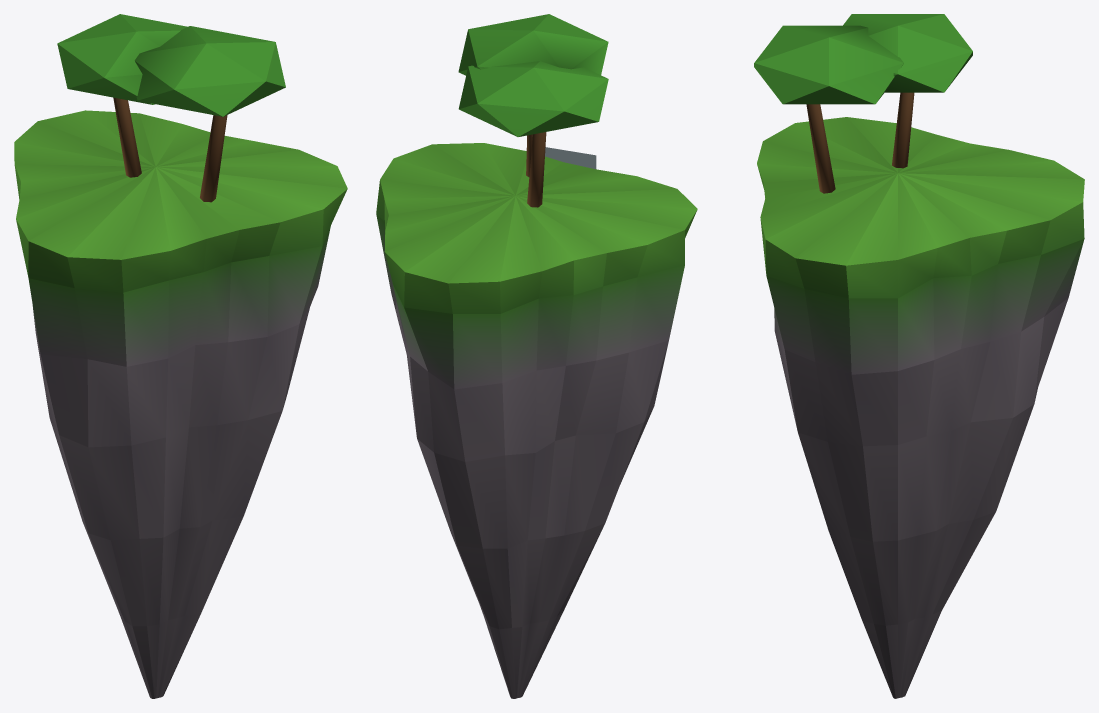
File: insulita_a.glb
3 views of the same model, side by side, from view 1: azimuth 30°, elevation 25°; view 2: azimuth 150°, elevation 25°; view 3: azimuth 270°, elevation 25° (orthographic). The views are drawn at different scales.
Parts seen in each view (by area): view 1: Corp; view 2: Corp; view 3: Corp.
Boxes of the visible parts, left/top/right/bottom form: Corp: left=14, top=14, right=347, bottom=698; Corp: left=376, top=14, right=697, bottom=698; Corp: left=754, top=14, right=1084, bottom=698.
Bounding box in the file's own units: 3.49 × 7.28 × 3.56.
